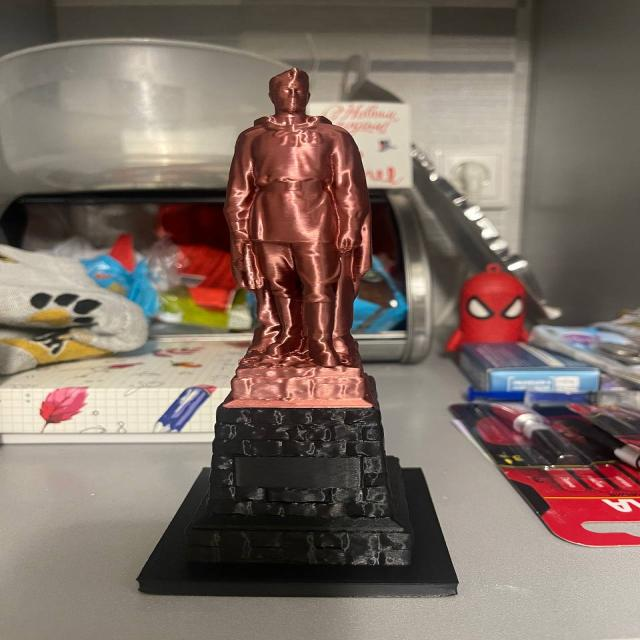Without deffect: (132, 50, 480, 632)
